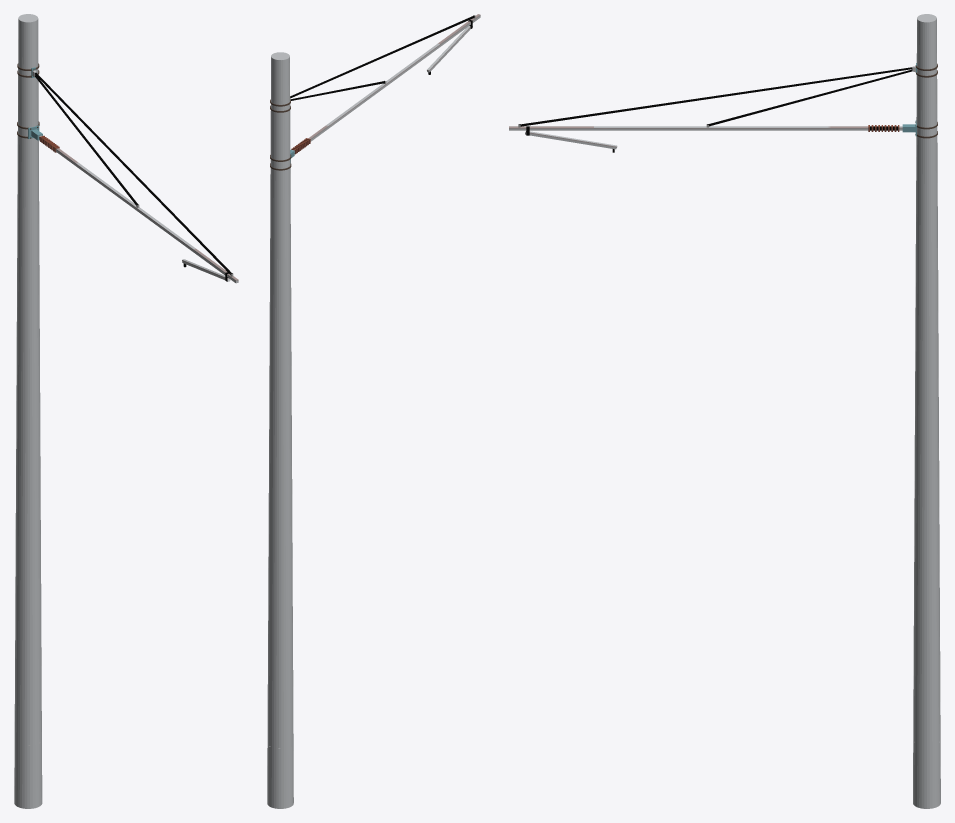
The model's file is catenary_easy1.obj.
3 renders of one model, left to right at view 1: azimuth 30°, elevation 25°; view 2: azimuth 150°, elevation 25°; view 3: azimuth 270°, elevation 25°, orthographic. The views are drawn at different scales.
Visible parts, largest first — view 1: catenary.005; view 2: catenary.005; view 3: catenary.005.
Part boxes in pixels (left/top/right/bottom): catenary.005: left=14, top=14, right=238, bottom=808; catenary.005: left=267, top=14, right=480, bottom=808; catenary.005: left=509, top=14, right=940, bottom=808.
Size of the model in its own units: 0.2686 by 8.29 by 4.13.
1 material, 1 textured.
